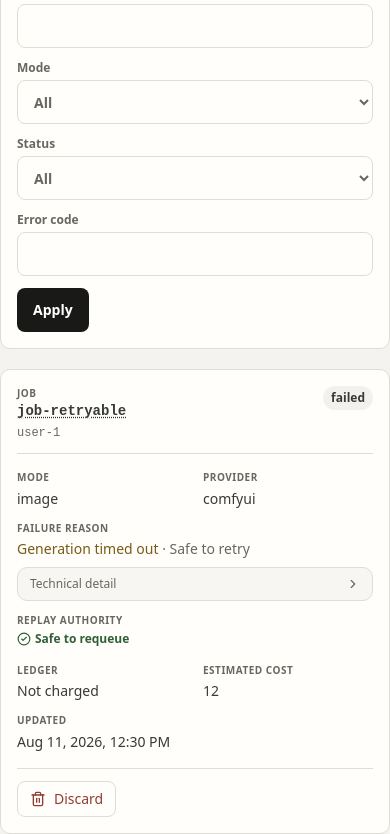
Scenario: DeadLetterWorkspace retry authority › describes discard settlement without promising a refund for an uncharged request
The image size is (390, 834).
(page scrolled)
Click the button "Discard": coordinates (67, 799) [17, 781, 116, 817]
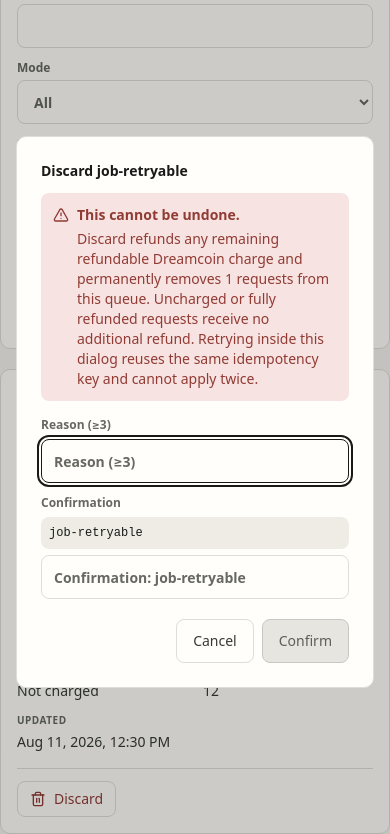
Result: the dialog shows "remaining refundable Dreamcoin charge" at [77, 229, 329, 388]
Result: the dialog shows "Uncharged or fully refunded requests receive no additional refund" at [77, 229, 329, 388]
